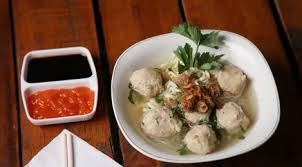bakso: (131, 42, 254, 151)
